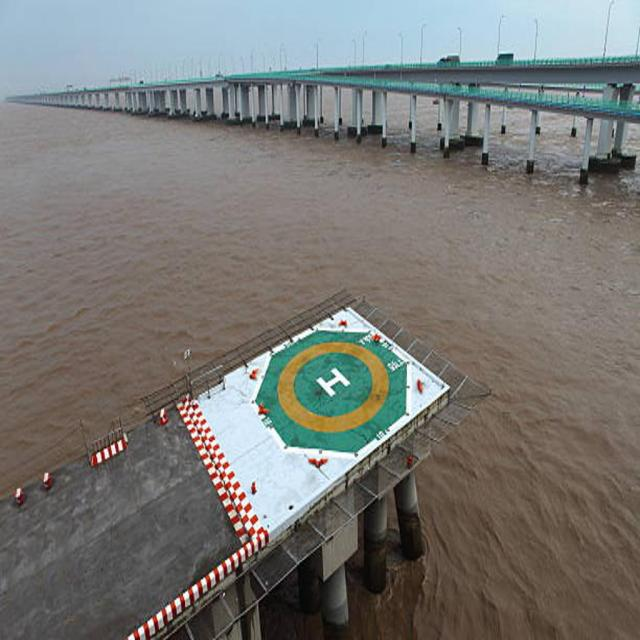helipad: (276, 342, 389, 432)
